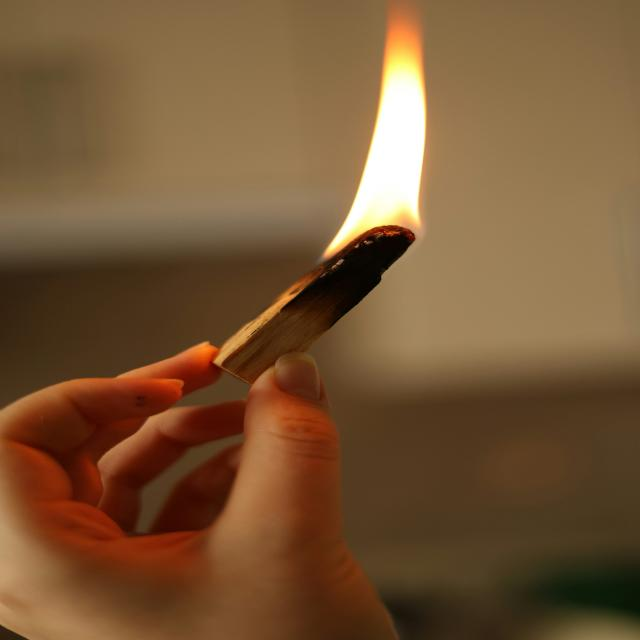fire: (316, 0, 427, 262)
